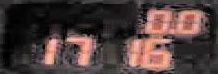-: (167, 25, 174, 34)
0: (142, 7, 167, 32), (174, 9, 198, 34)
1: (40, 32, 58, 67), (125, 36, 138, 67)
6: (140, 36, 169, 67)
7: (63, 34, 92, 65)
